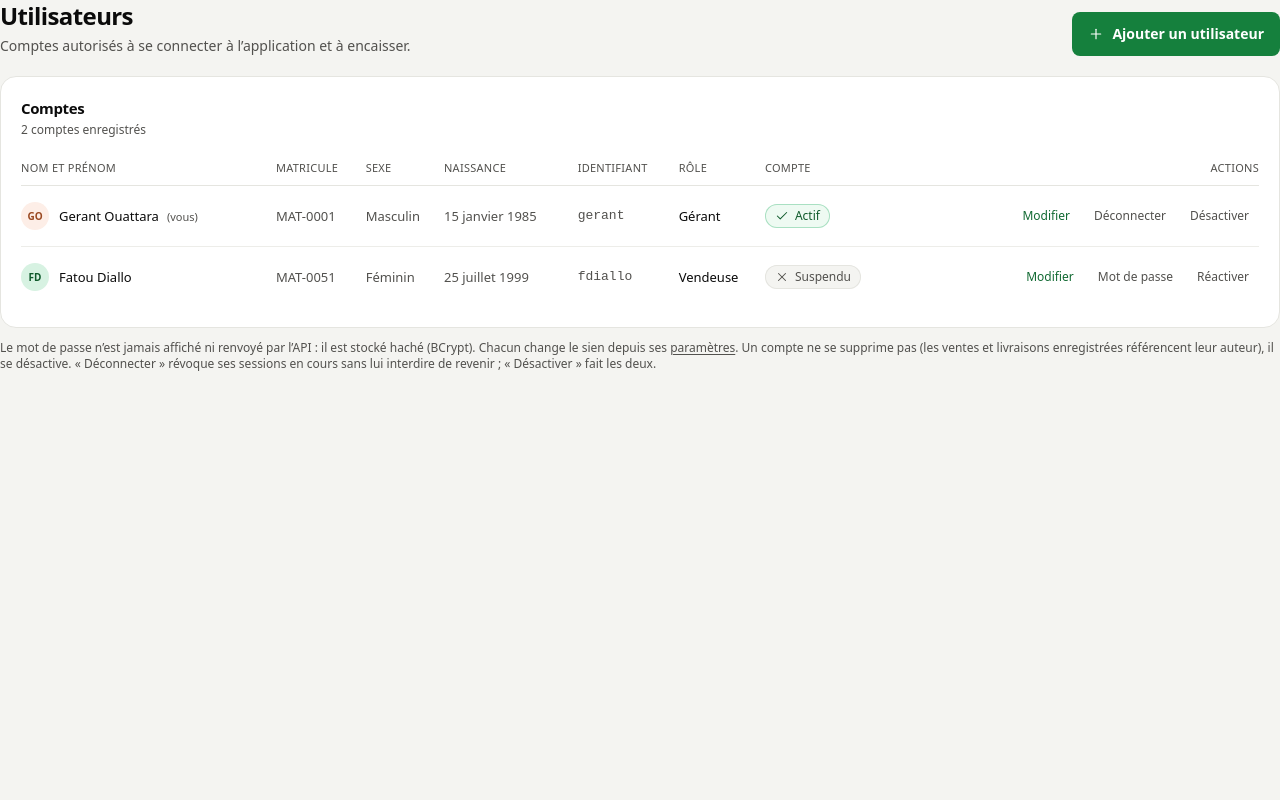
Test: accessibilité de l'écran Utilisateurs › ne présente aucune infraction, modale de création ouverte
Expected: the text "Gerant Ouattara(vous)" is shown, [59,207,198,226]
Click the button "Ajouter un utilisateur" at (1176, 34), box [1072,12,1279,56]
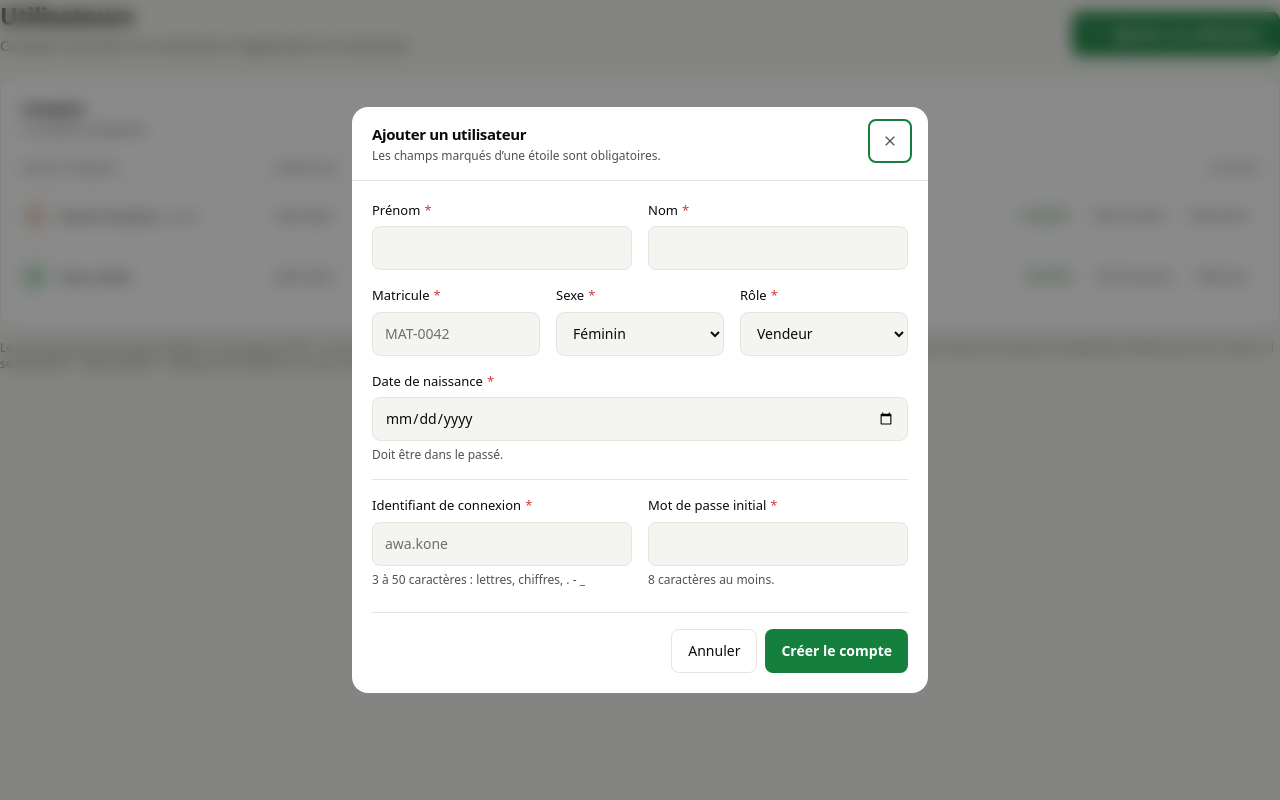
Result: the dialog is shown at [352,107,928,693]
